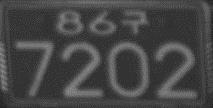0: (107, 40, 150, 99)
2: (60, 39, 104, 99), (154, 39, 197, 100)
6: (88, 9, 117, 35)
7: (13, 39, 54, 97)
8: (55, 8, 84, 36)
구: (120, 8, 148, 34)
